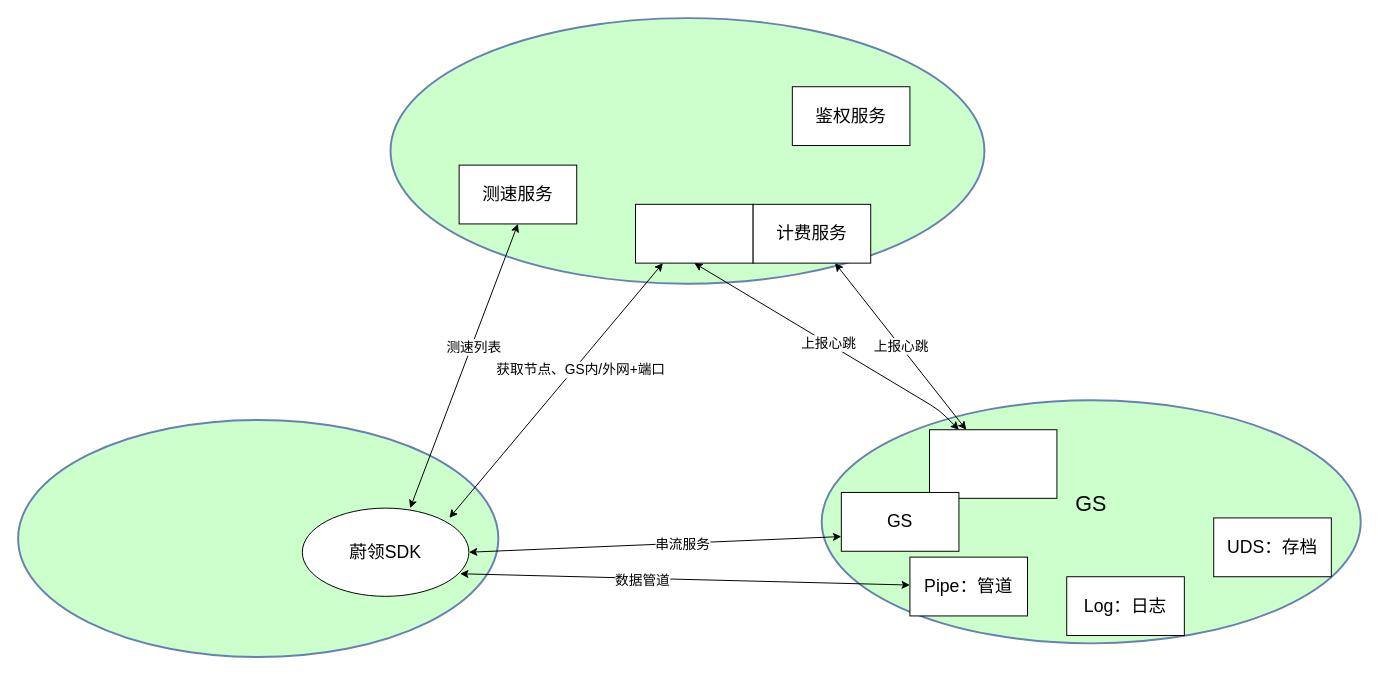
The diagram is 1378 pixels wide and 674 high, and some of its shapes have lost their labels. Here are the shapes that lost their labels. From the top down, the box of each, then its label:
(389, 17, 985, 284): PAAS
(635, 203, 753, 263): GSM
(929, 429, 1057, 498): agent
(17, 418, 499, 658): 客户APP
